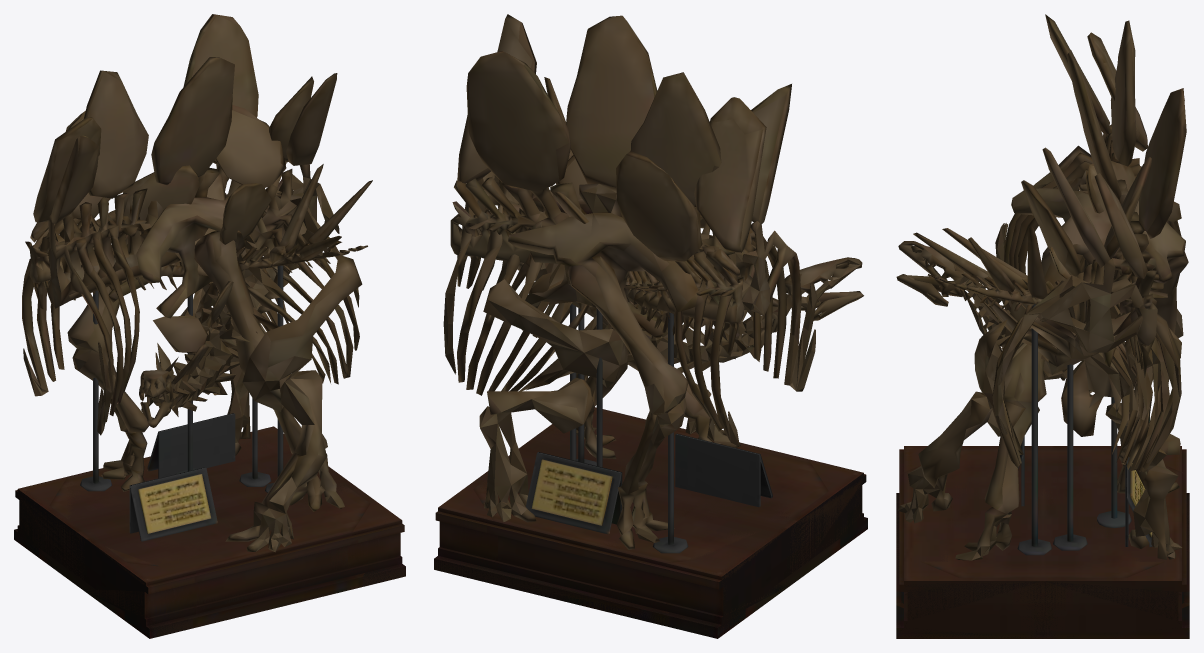
File: fossil-stego.glb
3 views of the same model, side by side, from view 1: azimuth 30°, elevation 25°; view 2: azimuth 150°, elevation 25°; view 3: azimuth 270°, elevation 25° (orthographic). The views are drawn at different scales.
Visible parts, largest first — view 1: mFtrFossilStegosaurusB, mFossilBaseEnd (×2), mFtrFossilStegosaurusA, mFossilBaseMiddle, mFtrFossilStegosaurusC; view 2: mFtrFossilStegosaurusB, mFossilBaseEnd (×2), mFtrFossilStegosaurusA, mFossilBaseMiddle, mFtrFossilStegosaurusC; view 3: mFossilBaseEnd (×2), mFtrFossilStegosaurusA, mFtrFossilStegosaurusB, mFossilBaseMiddle, mFtrFossilStegosaurusC.
Boxes of the visible parts, x1,y1,x2,y2 form: mFtrFossilStegosaurusB: [22, 14, 344, 511]; mFossilBaseEnd (×2): [14, 265, 405, 638]; mFtrFossilStegosaurusA: [139, 73, 362, 552]; mFossilBaseMiddle: [14, 294, 405, 638]; mFtrFossilStegosaurusC: [25, 111, 372, 309]; mFtrFossilStegosaurusB: [450, 15, 817, 549]; mFossilBaseEnd (×2): [434, 304, 866, 638]; mFtrFossilStegosaurusA: [443, 14, 863, 522]; mFossilBaseMiddle: [434, 308, 867, 638]; mFtrFossilStegosaurusC: [544, 77, 766, 352]; mFossilBaseEnd (×2): [896, 304, 1189, 638]; mFtrFossilStegosaurusA: [896, 147, 1181, 559]; mFtrFossilStegosaurusB: [955, 14, 1188, 560]; mFossilBaseMiddle: [896, 397, 1189, 638]; mFtrFossilStegosaurusC: [913, 32, 1184, 314].
Size of the model in its own units: 20.22 by 36.43 by 18.33.
6 materials, 6 textured.
